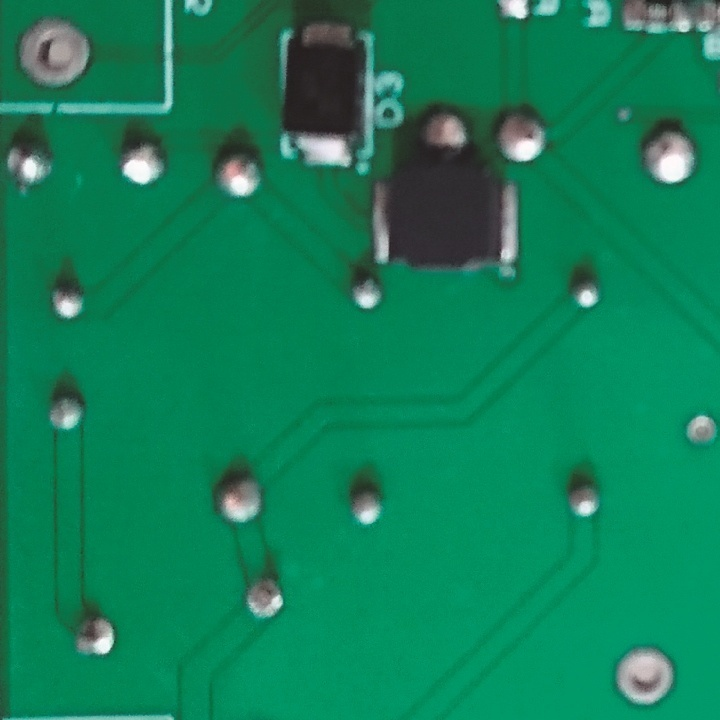F: (11, 15, 97, 92), (610, 643, 678, 709), (680, 412, 720, 449)
